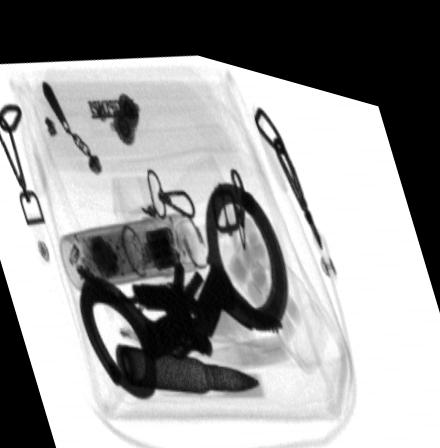Baton: (58, 202, 206, 288)
Bullet: (115, 338, 263, 383)
Gun: (77, 253, 214, 312)
HandCuffs: (78, 169, 287, 392)
